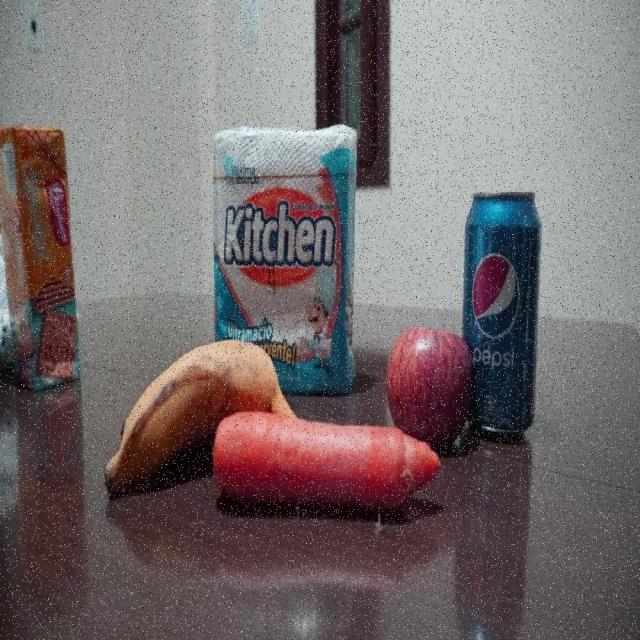Apple: (385, 325, 475, 447)
Banana: (104, 339, 304, 508)
Carrot: (210, 403, 442, 511)
Cracker: (0, 121, 82, 396)
Napkin: (211, 119, 360, 394)
SodaCan: (463, 188, 543, 443)
